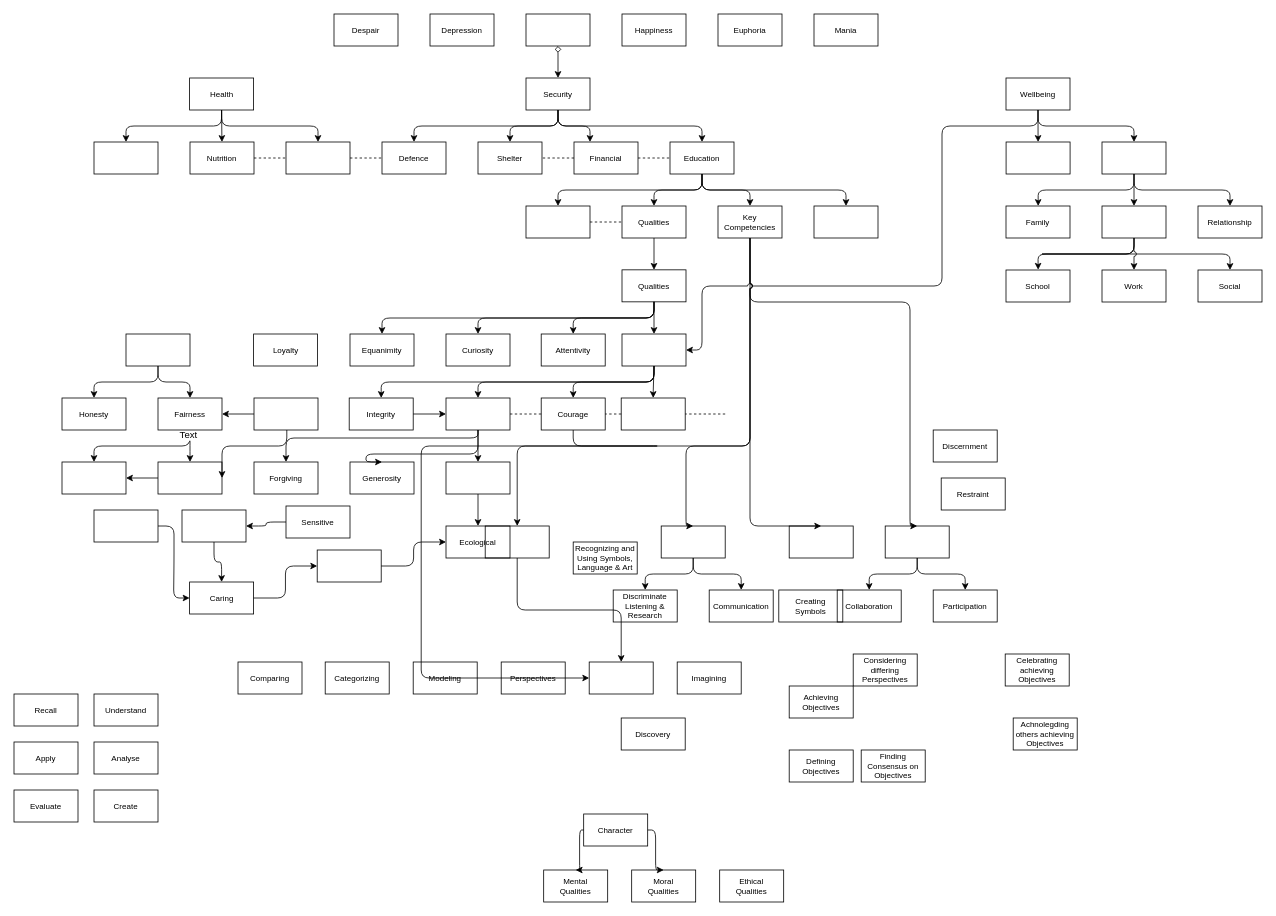
Some shapes in this 1276 by 916 pixel diagram are drawn without their labels. The shapes that lost their labels are listed below. From the top down, each one's centre as x and y in pixels, then its label:
(557,29): Contentment
(125,157): Hygiene
(317,157): Sports
(1037,157): Acknowledgment
(1133,157): Inclusion
(557,221): Principles
(845,221): Learning Areas
(1133,221): Organisations
(157,349): Trustworthiness
(653,349): Character Values
(285,413): Tolerance
(477,413): Kindness
(652,413): Reslience
(93,477): Equity
(189,477): Respect
(477,477): Compassion
(125,525): Helpful
(213,525): Considerate
(516,541): Exploration and Thinking
(692,541): Symbols, Text, Language, Art
(820,541): Self-Management
(916,541): Relating to Others
(348,565): Nurturing
(620,677): Projecting
